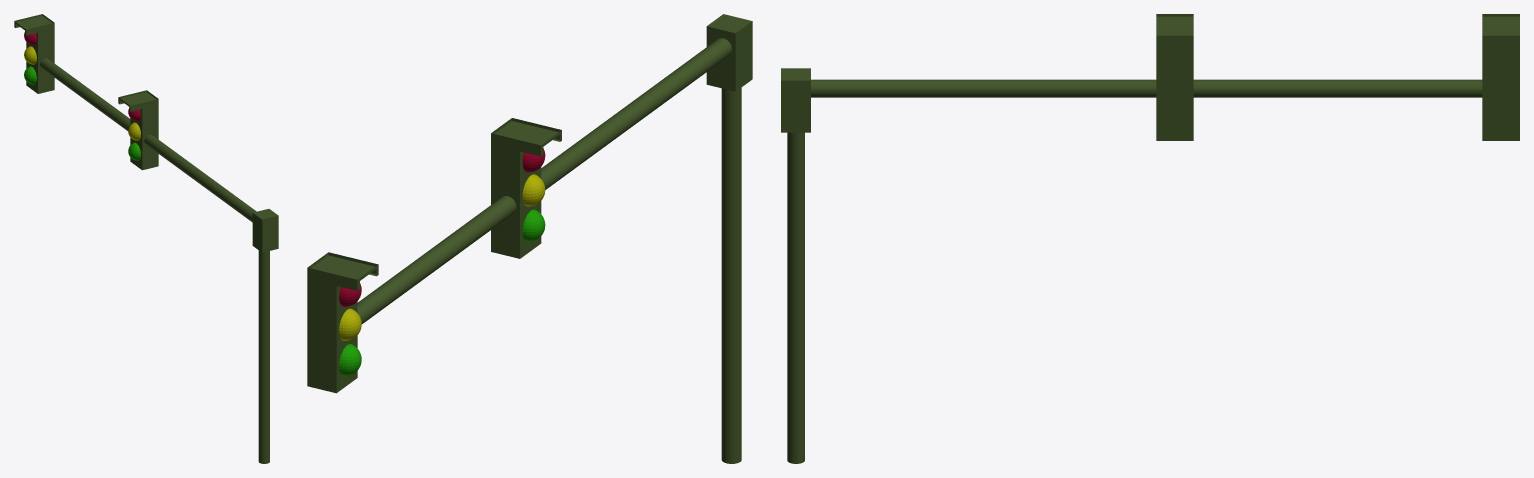
Rendered from StopLight.fbx.
3 renders of one model, left to right at view 1: azimuth 30°, elevation 25°; view 2: azimuth 150°, elevation 25°; view 3: azimuth 270°, elevation 25°, orthographic. The views are drawn at different scales.
Parts seen in each view (by area): view 1: Cylinder; view 2: Cylinder; view 3: Cylinder.
Boxes of the visible parts, bbox=[...] form: Cylinder: bbox=[14, 14, 278, 463]; Cylinder: bbox=[307, 14, 752, 463]; Cylinder: bbox=[781, 14, 1519, 463].
Bounding box in the file's own units: 172 × 1599 × 2479.
